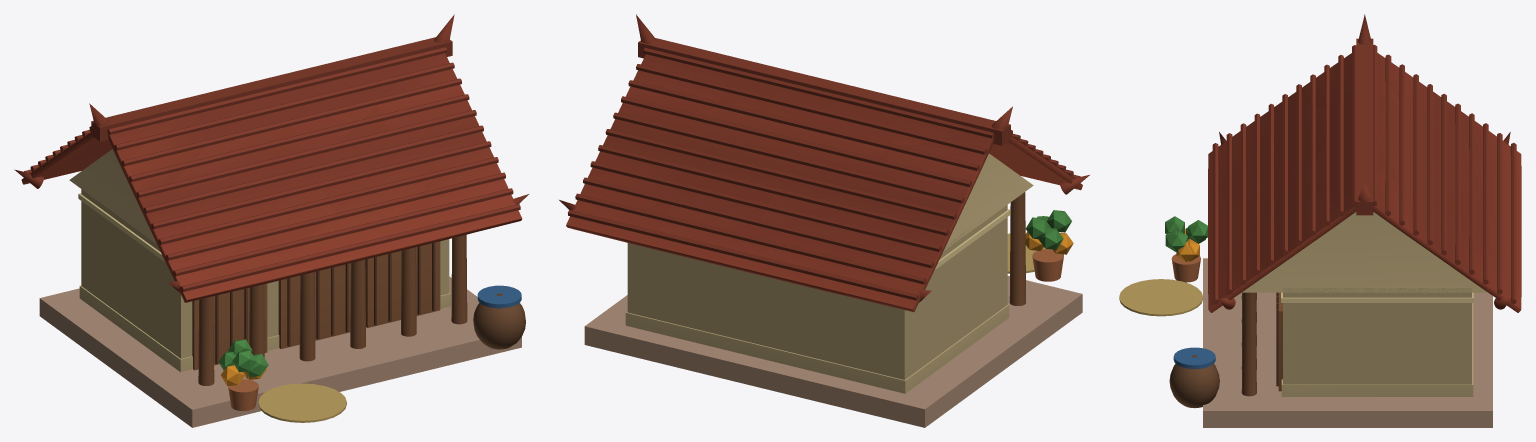
File: hs-d7pfyv.glb
3 views of the same model, side by side, from view 1: azimuth 30°, elevation 25°; view 2: azimuth 150°, elevation 25°; view 3: azimuth 270°, elevation 25° (orthographic). The views are drawn at different scales.
Size of the model in its own units: 9.53 by 6.65 by 9.59.
